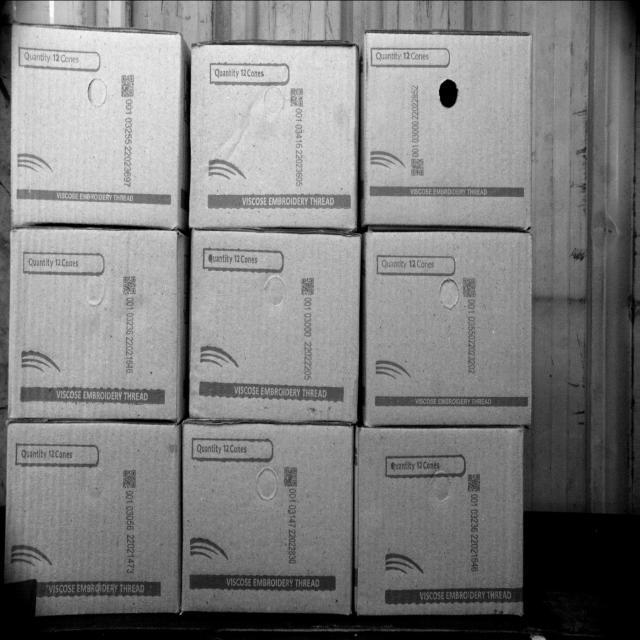box: (178, 414, 357, 630), (11, 18, 182, 230), (185, 222, 362, 424), (352, 414, 525, 620), (7, 420, 180, 624), (358, 225, 530, 422), (8, 226, 175, 418), (193, 40, 355, 229), (369, 42, 526, 228)
